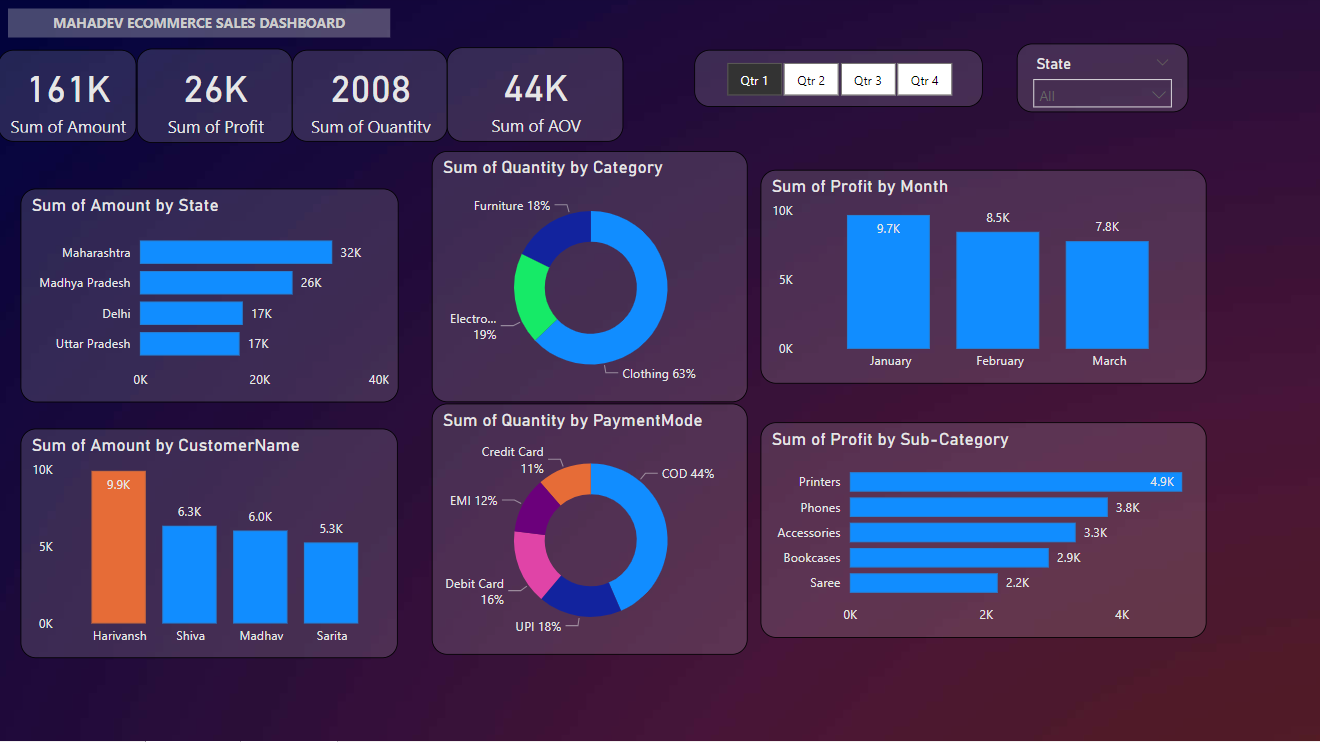

Layout of this report page (visuals, bound fields, positions):
{"tool":"powerbi","page":{"name":"Page 2","canvas":[1280,720],"ordinal":1},"visuals":[{"type":"textbox","box":[10,12.2,368.9,27.8],"z":0},{"type":"columnChart","fields":{"Category":["Orders.Order Date.Variation.Date Hierarchy.Month"],"Y":["Details.Profit"]},"box":[735.6,167.8,430,206.7],"z":1000},{"type":"barChart","fields":{"Category":["Details.Sub-Category"],"Y":["Details.Profit"]},"box":[735.6,411.1,430,207.8],"z":2000},{"type":"donutChart","fields":{"Category":["Details.Category"],"Y":["Details.Quantity"]},"box":[418.9,150,304.4,242.2],"z":3000},{"type":"donutChart","fields":{"Y":["Details.Quantity"],"Category":["Details.PaymentMode"]},"box":[418.9,393.3,304.4,242.2],"z":4000},{"type":"card","fields":{"Values":["Details.Amount"]},"box":[0,52.2,133.3,88.9],"z":5000},{"type":"card","fields":{"Values":["Details.Profit"]},"box":[133.3,51.1,150,91.1],"z":6000},{"type":"card","fields":{"Values":["Details.Quantity"]},"box":[283.3,52.2,150,88.9],"z":7000},{"type":"card","fields":{"Values":["Details.AOV"]},"box":[433.3,50,170,91.1],"z":8000},{"type":"barChart","fields":{"Category":["Orders.State"],"Y":["Details.Amount"]},"box":[22.2,185.6,364.4,206.7],"z":9000},{"type":"columnChart","fields":{"Category":["Orders.CustomerName"],"Y":["Details.Amount"]},"box":[21.7,417.3,364.2,221.9],"z":10000},{"type":"slicer","fields":{"Values":["Orders.Order Date.Variation.Date Hierarchy.Quarter"]},"box":[682.2,51.1,278.9,55.6],"z":11000},{"type":"slicer","fields":{"Values":["Orders.State"]},"box":[983.3,45.6,165.6,66.7],"z":12000}]}

Visuals, with their boxes in screenshot pixels (x1, y1, x2, y2), scaled from the page's 1280x720 canvas onto the 1320x742 screenshot:
textbox: [left=10, top=13, right=391, bottom=41]
columnChart - Orders.Order Date.Variation.Date Hierarchy.Month x Details.Profit: [left=759, top=173, right=1202, bottom=386]
barChart - Details.Sub-Category x Details.Profit: [left=759, top=424, right=1202, bottom=638]
donutChart - Details.Category x Details.Quantity: [left=432, top=155, right=746, bottom=404]
donutChart - Details.Quantity x Details.PaymentMode: [left=432, top=405, right=746, bottom=655]
card - Details.Amount: [left=0, top=54, right=137, bottom=145]
card - Details.Profit: [left=137, top=53, right=292, bottom=147]
card - Details.Quantity: [left=292, top=54, right=447, bottom=145]
card - Details.AOV: [left=447, top=52, right=622, bottom=145]
barChart - Orders.State x Details.Amount: [left=23, top=191, right=399, bottom=404]
columnChart - Orders.CustomerName x Details.Amount: [left=22, top=430, right=398, bottom=659]
slicer - Orders.Order Date.Variation.Date Hierarchy.Quarter: [left=704, top=53, right=991, bottom=110]
slicer - Orders.State: [left=1014, top=47, right=1185, bottom=116]
